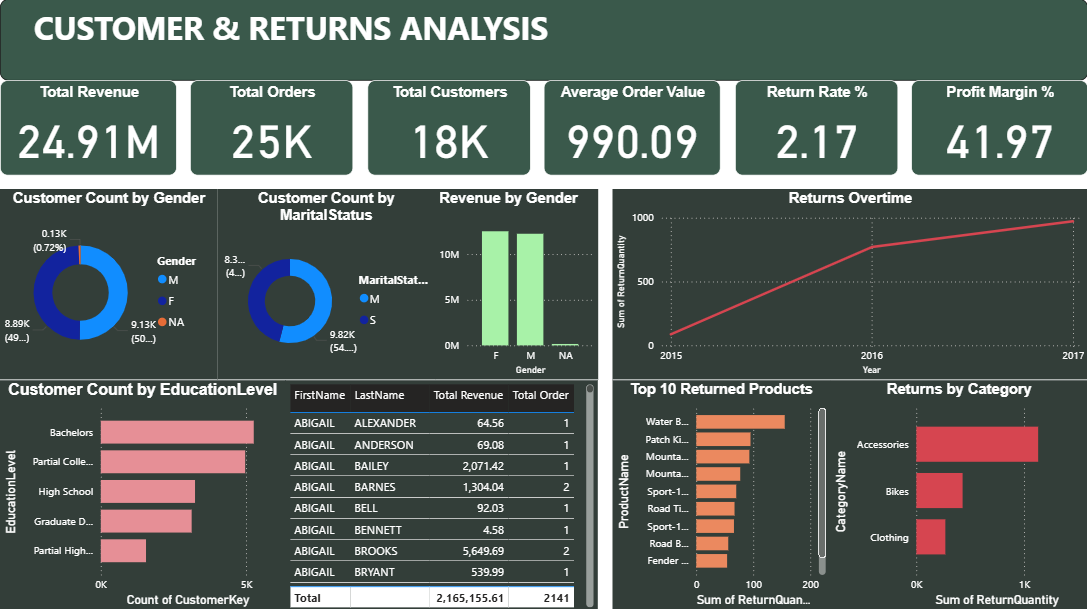

What the dashboard file says about the page in this screenshot:
{"tool":"powerbi","page":{"name":"customer & returs","canvas":[1280,720],"ordinal":3},"visuals":[{"type":"textbox","box":[0,0,1280,96],"z":0},{"type":"card","title":"Total Revenue","fields":{"Values":["sales.Total Revenue"]},"box":[0,96,208,112],"z":1000},{"type":"card","title":"Total Orders","fields":{"Values":["sales.Total Order"]},"box":[224,96,192,112],"z":2000},{"type":"card","title":"Average Order Value","fields":{"Values":["sales.Average Order Value"]},"box":[640,96,208,112],"z":3000},{"type":"card","title":"Profit Margin %","fields":{"Values":["sales.Profit Margin %"]},"box":[1072,96,208,112],"z":4000},{"type":"card","title":"Return Rate %","fields":{"Values":["Returns.Return Rate %"]},"box":[864,96,192,112],"z":5000},{"type":"card","title":"Total Customers","fields":{"Values":["Customers.Total Customers"]},"box":[432,96,192,112],"z":6000},{"type":"donutChart","title":"Customer Count by Gender","fields":{"Category":["Customers.Gender"],"Y":["Customers.CustomerKey"]},"box":[0,224,256,224],"z":7000},{"type":"donutChart","title":"Customer Count by MaritalStatus","fields":{"Category":["Customers.MaritalStatus"],"Y":["Customers.CustomerKey"]},"box":[256,224,256,224],"z":8000},{"type":"clusteredBarChart","title":" Customer Count by EducationLevel","fields":{"Category":["Customers.EducationLevel"],"Y":["Customers.CustomerKey"]},"box":[0,448,336,272],"z":9000},{"type":"columnChart","title":"Revenue by Gender","fields":{"Category":["Customers.Gender"],"Y":["sales.Total Revenue"]},"box":[512,224,192,224],"z":10000},{"type":"tableEx","fields":{"Values":["Customers.FirstName","Customers.LastName","sales.Total Revenue","sales.Total Order"]},"box":[336,448,368,272],"z":11000},{"type":"lineChart","title":"Returns Overtime","fields":{"Category":["Returns.ReturnDate.Variation.Date Hierarchy.Year","Returns.ReturnDate.Variation.Date Hierarchy.Quarter","Returns.ReturnDate.Variation.Date Hierarchy.Month","Returns.ReturnDate.Variation.Date Hierarchy.Day"],"Y":["Returns.ReturnQuantity"]},"box":[720,224,560,224],"z":12000},{"type":"clusteredBarChart","title":"Top 10 Returned Products","fields":{"Category":["Products.ProductName"],"Y":["Returns.ReturnQuantity"]},"box":[720,448,256,272],"z":13000},{"type":"clusteredBarChart","title":"Returns by Category","fields":{"Category":["Product_Categories.CategoryName"],"Y":["Returns.ReturnQuantity"]},"box":[976,448,304,272],"z":14000}]}

Visuals, with their boxes in screenshot pixels (x1, y1, x2, y2), scaled from the page's 1280x720 canvas onto the 1087x609 screenshot:
textbox: <bbox>0, 0, 1086, 81</bbox>
"Total Revenue" card: <bbox>0, 81, 177, 176</bbox>
"Total Orders" card: <bbox>190, 81, 353, 176</bbox>
"Average Order Value" card: <bbox>544, 81, 720, 176</bbox>
"Profit Margin %" card: <bbox>910, 81, 1086, 176</bbox>
"Return Rate %" card: <bbox>734, 81, 897, 176</bbox>
"Total Customers" card: <bbox>367, 81, 530, 176</bbox>
"Customer Count by Gender" donutChart: <bbox>0, 189, 217, 379</bbox>
"Customer Count by MaritalStatus" donutChart: <bbox>217, 189, 435, 379</bbox>
" Customer Count by EducationLevel" clusteredBarChart: <bbox>0, 379, 285, 608</bbox>
"Revenue by Gender" columnChart: <bbox>435, 189, 598, 379</bbox>
tableEx - Customers.FirstName x Customers.LastName: <bbox>285, 379, 598, 608</bbox>
"Returns Overtime" lineChart: <bbox>611, 189, 1086, 379</bbox>
"Top 10 Returned Products" clusteredBarChart: <bbox>611, 379, 829, 608</bbox>
"Returns by Category" clusteredBarChart: <bbox>829, 379, 1086, 608</bbox>
